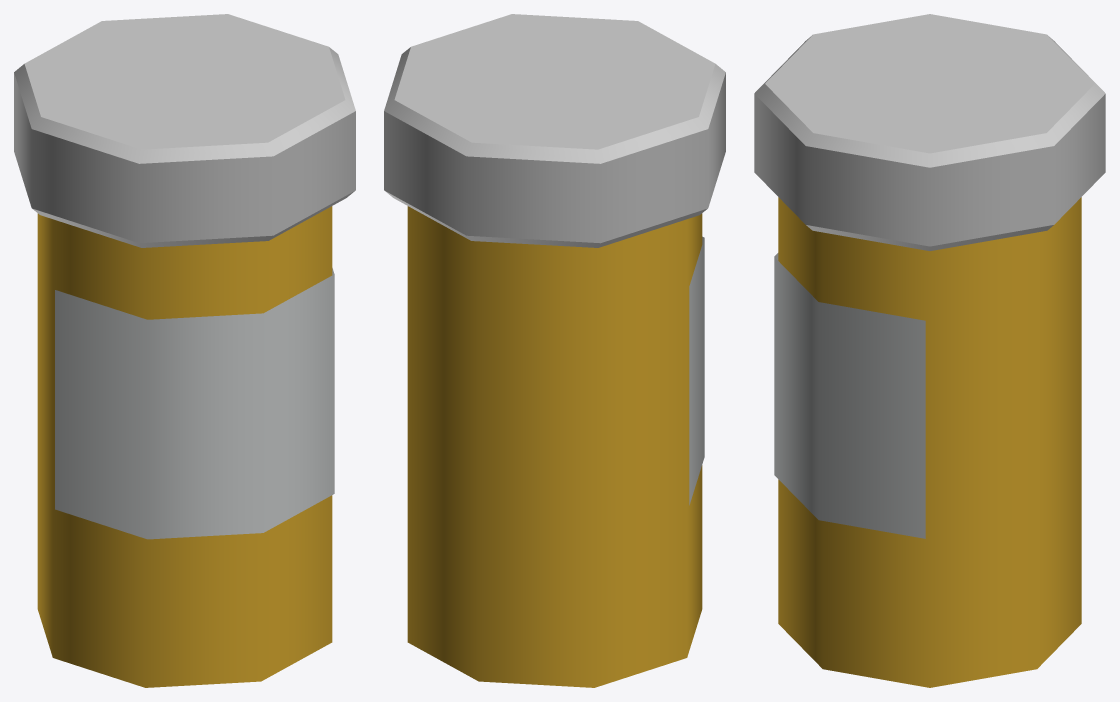
Rendered from Pill Bottle 02.fbx.
3 renders of one model, left to right at view 1: azimuth 30°, elevation 25°; view 2: azimuth 150°, elevation 25°; view 3: azimuth 270°, elevation 25°, orthographic.
Parts seen in each view (by area): view 1: Pill_Bottle_02; view 2: Pill_Bottle_02; view 3: Pill_Bottle_02.
Part boxes in pixels (x1,y1,x2,y2): Pill_Bottle_02: [14, 14, 355, 687]; Pill_Bottle_02: [384, 14, 725, 687]; Pill_Bottle_02: [754, 14, 1105, 687].
Bounding box in the file's own units: 12.37 × 20.97 × 12.37.
